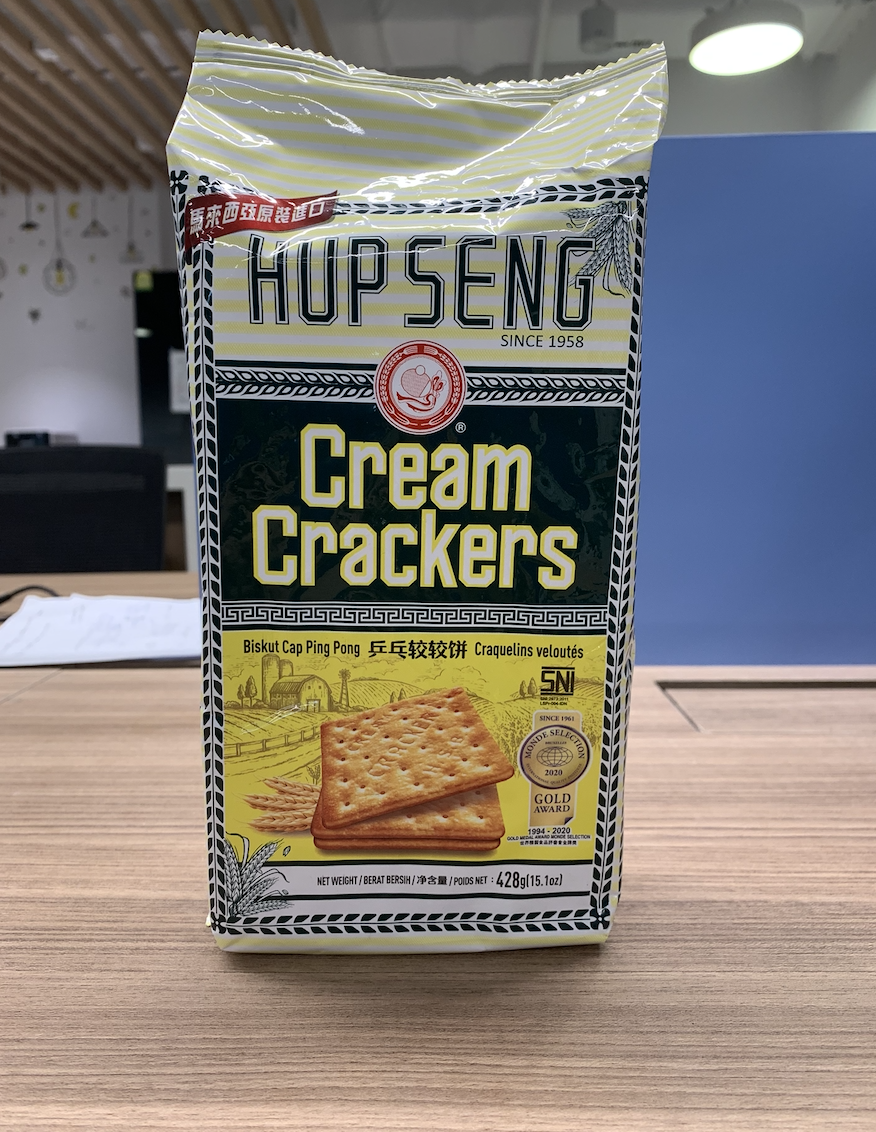crackers_450g: (201, 164, 624, 923)
